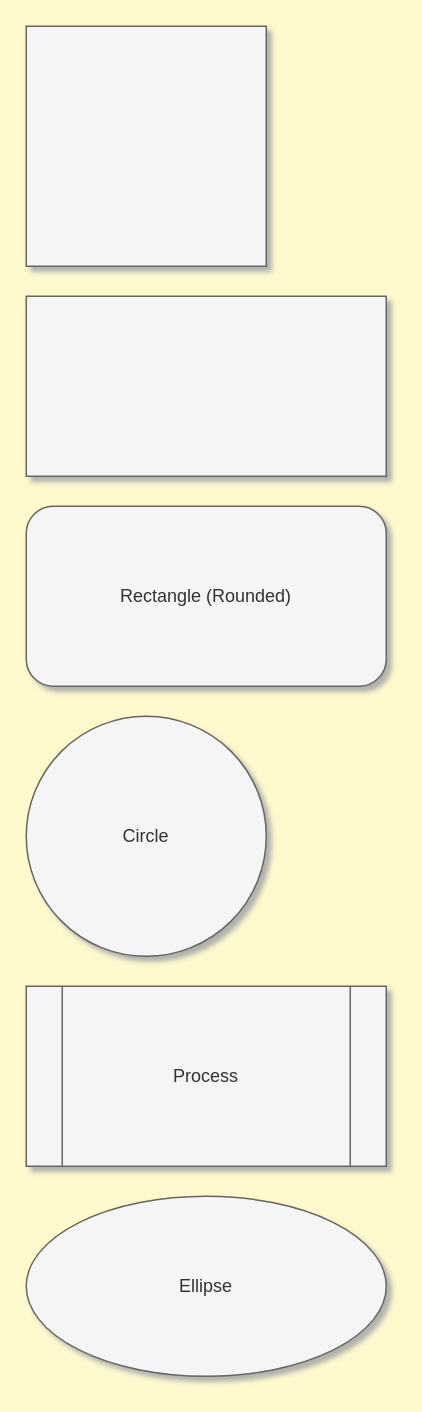
Image size: 422x1412. Some labels were removed from this diagram. The box of each missing label's shape, as (x1, y1, x2, y2) in pixels:
Rectangle: (25, 295, 386, 476)
Square: (25, 25, 266, 266)
